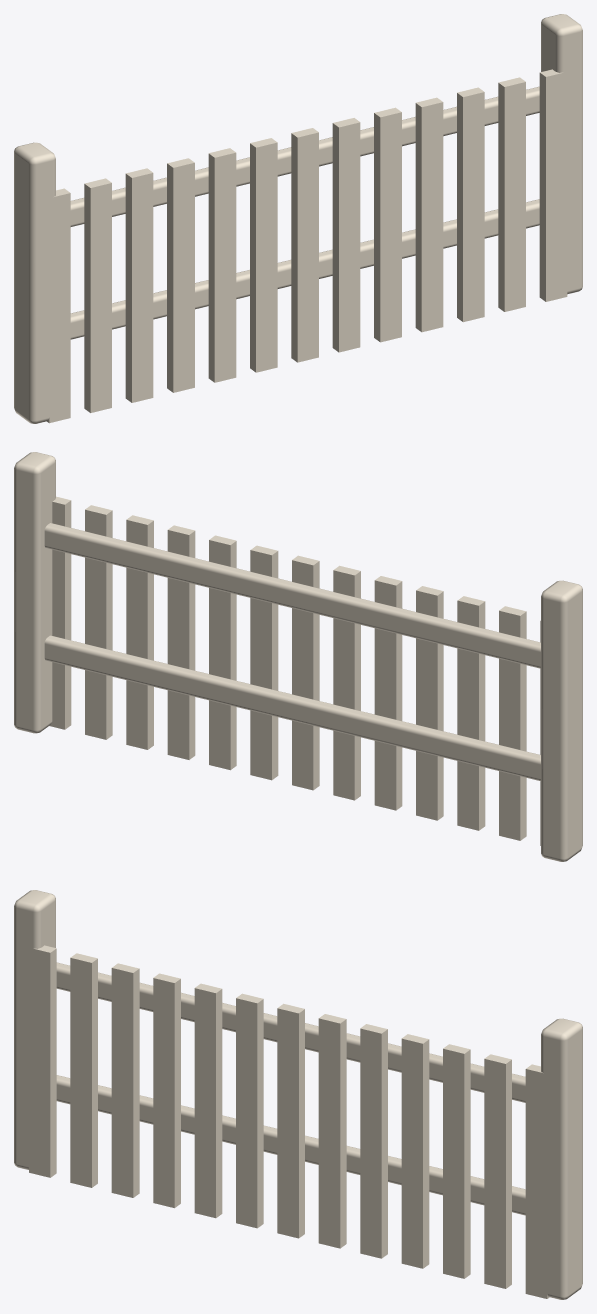
Rendered from picket_fence.glb.
The picture shows the model from 3 angles, top to bottom: view 1: azimuth 30°, elevation 25°; view 2: azimuth 150°, elevation 25°; view 3: azimuth 330°, elevation 25°; orthographic projection.
Visible parts, largest first — view 1: picket_fence; view 2: picket_fence; view 3: picket_fence.
Part boxes in pixels (x1,y1,x2,y2): picket_fence: (14,14,582,423); picket_fence: (14,452,582,861); picket_fence: (14,890,582,1299).
Size of the model in its own units: 2.06 by 0.95 by 0.13.
